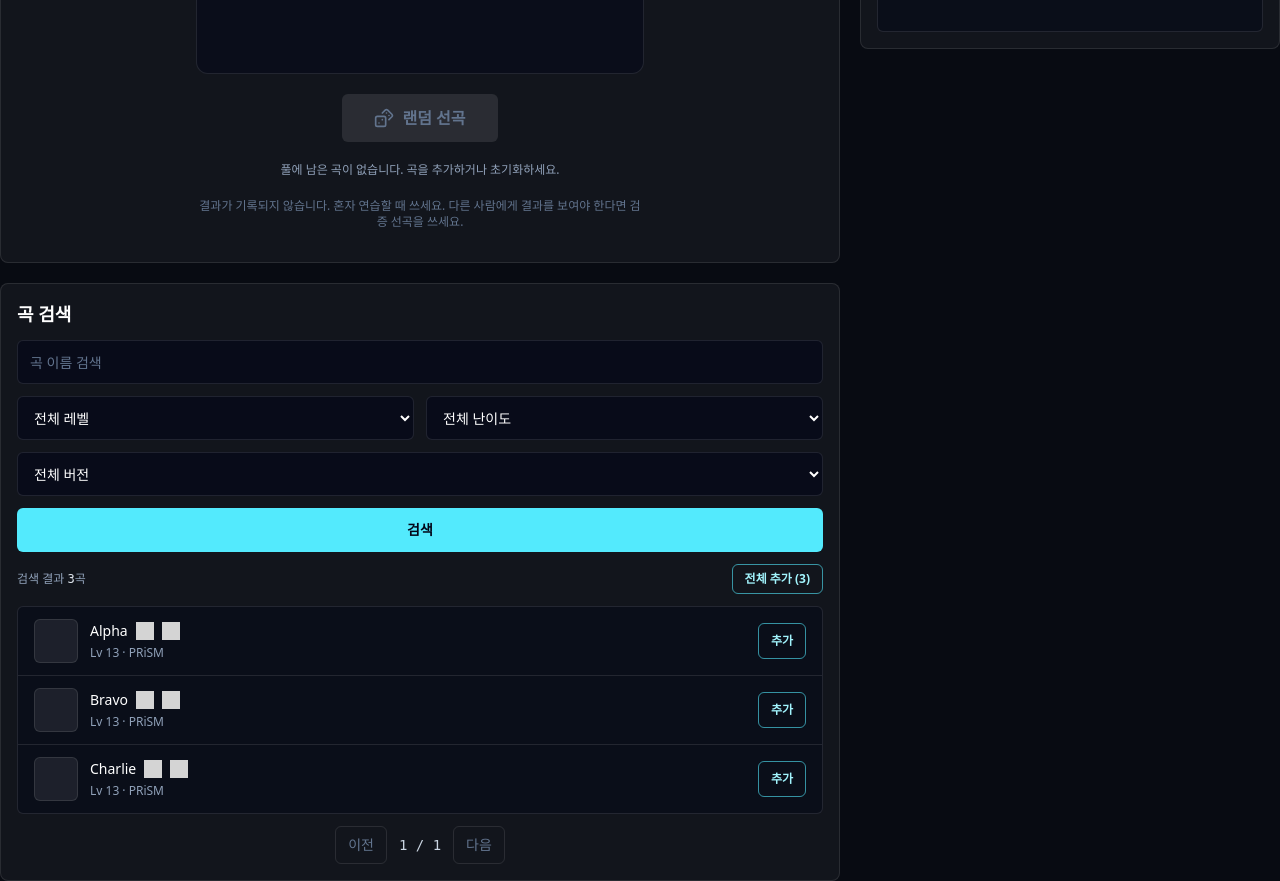
RandomPicker › disables the draw button once the pool is empty
(page scrolled)
Expected: the button "랜덤 선곡" is disabled, top-left (342, 94), bottom-right (498, 142)
Click the button with aria-label "Alpha DX MASTER 풀에 추가": (782, 641) top-left (758, 623), bottom-right (806, 659)
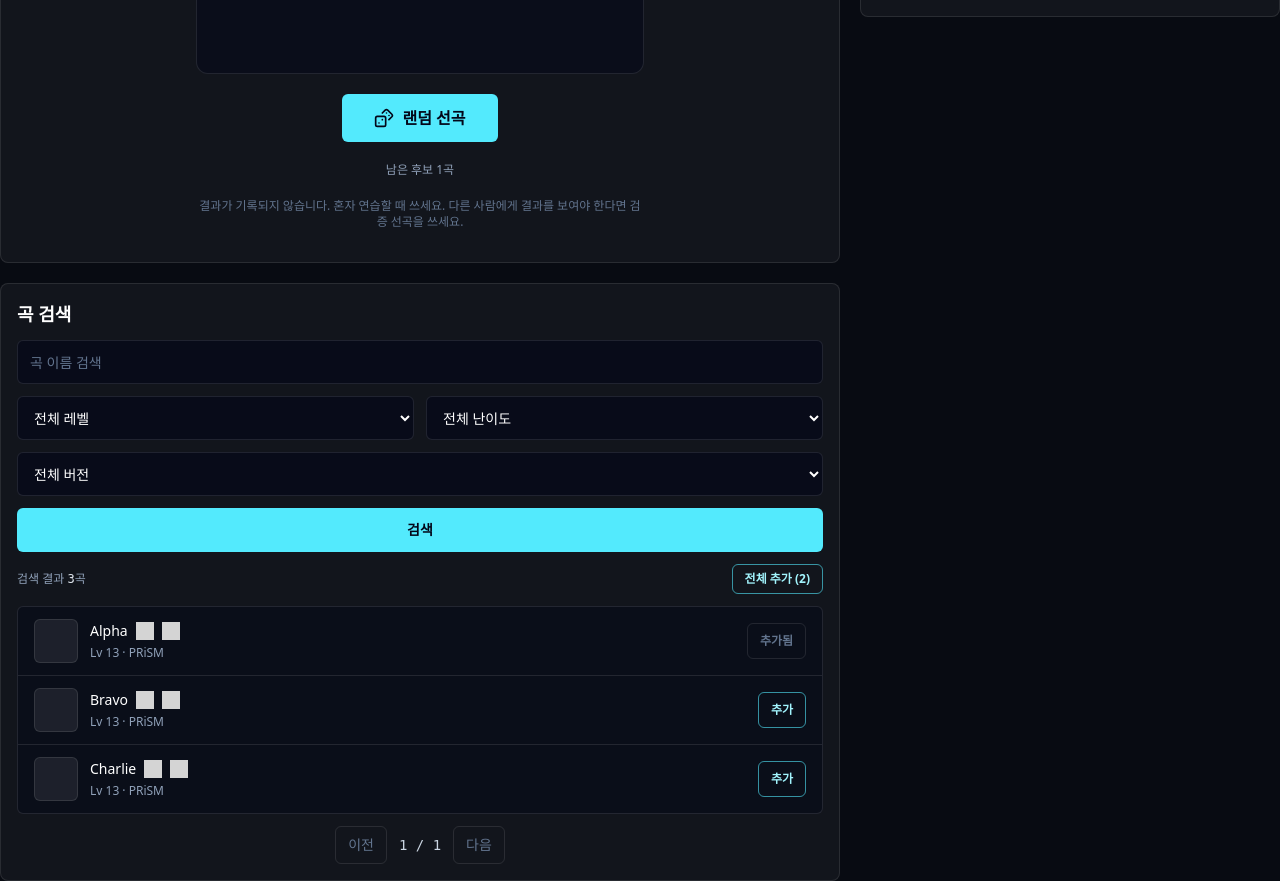
Expected: the button "랜덤 선곡" is enabled
Click the button "랜덤 선곡": (420, 118) top-left (342, 94), bottom-right (498, 142)
Wait 3050 ms
(page scrolled)
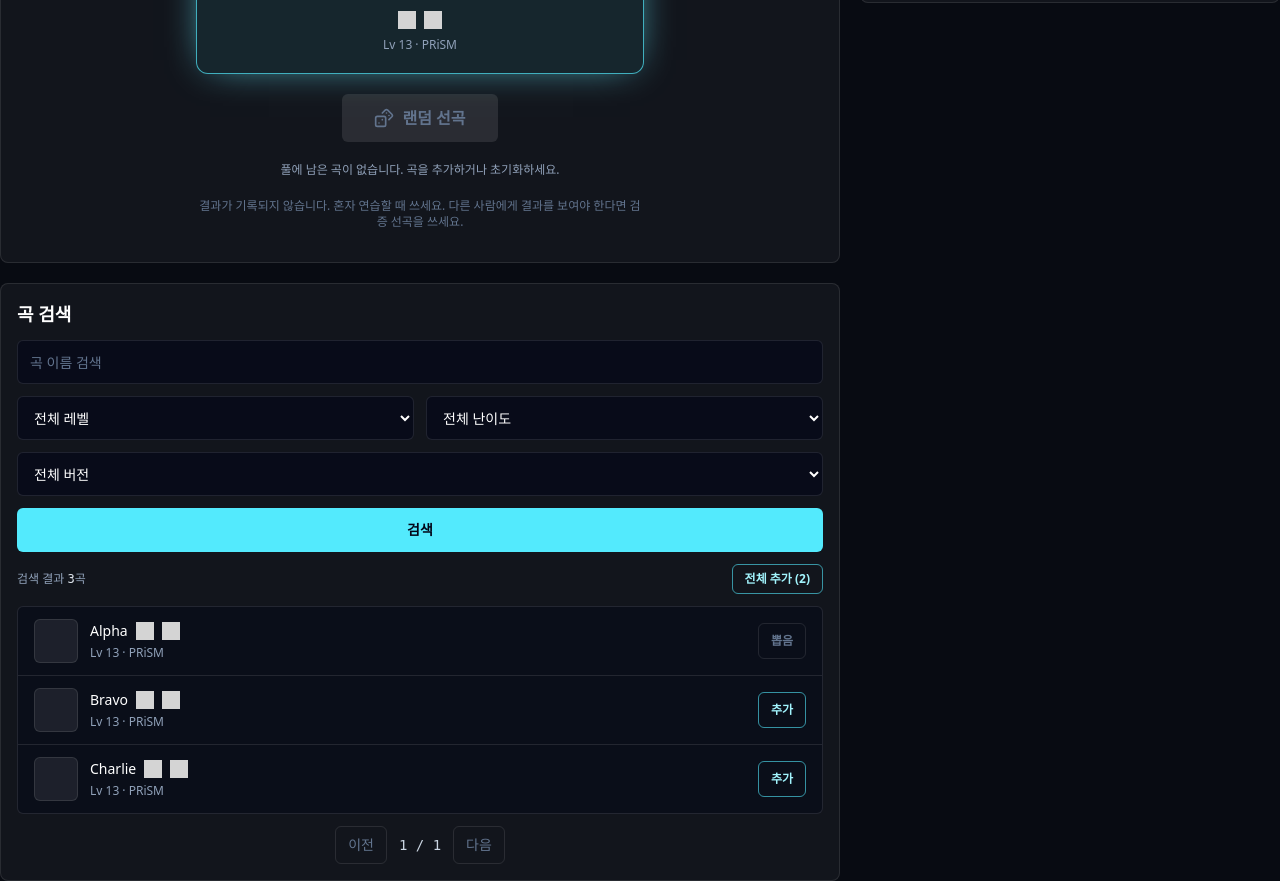
Expected: the button "랜덤 선곡" is disabled, top-left (342, 94), bottom-right (498, 142)
Expected: the text "풀에 남은 곡이 없습니다. 곡을 추가하거나 초기화하세요." is shown, top-left (280, 162), bottom-right (560, 178)
